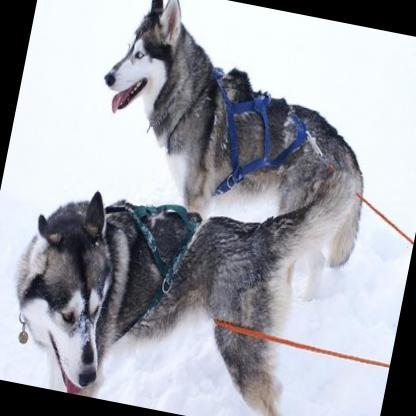Siberian_husky: (0, 106, 365, 416), (67, 0, 394, 306)
